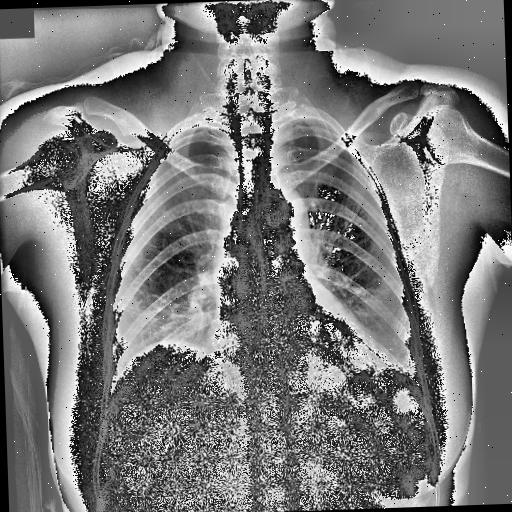0- Aortic enlargement: (258, 184, 314, 262), (254, 184, 311, 244), (262, 190, 310, 254)
3- Cardiomegaly: (204, 312, 395, 405), (204, 309, 395, 387), (203, 310, 385, 389)
